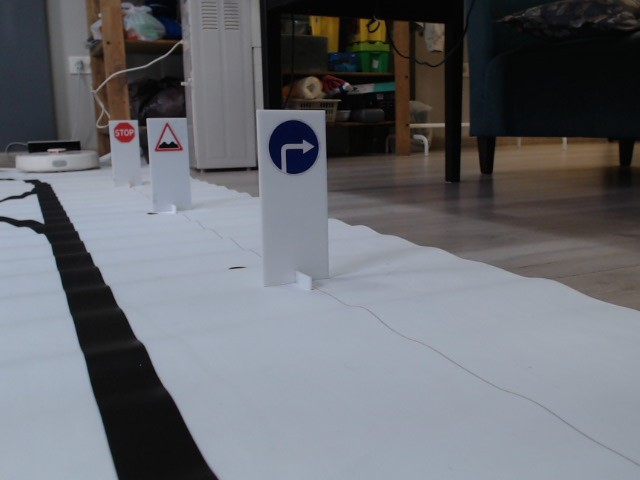Nerov: (154, 121, 182, 152)
Right: (266, 119, 320, 175)
Stop: (112, 122, 136, 144)
